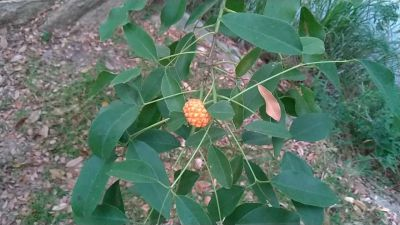eggs: (183, 98, 208, 128)
